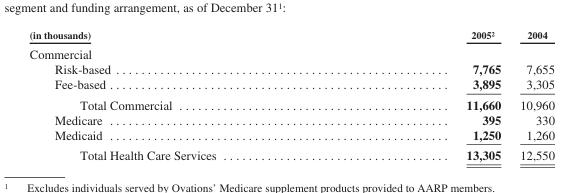table: (28, 28, 553, 161)
table column: (28, 28, 340, 161), (340, 28, 509, 161), (509, 28, 553, 161)
table column header: (28, 28, 553, 43)
table projected row header: (28, 43, 553, 61)
table row: (28, 43, 553, 61), (28, 76, 553, 94), (28, 126, 553, 144), (28, 94, 553, 111), (28, 144, 553, 161), (28, 28, 553, 43), (28, 61, 553, 76), (28, 111, 553, 126)
